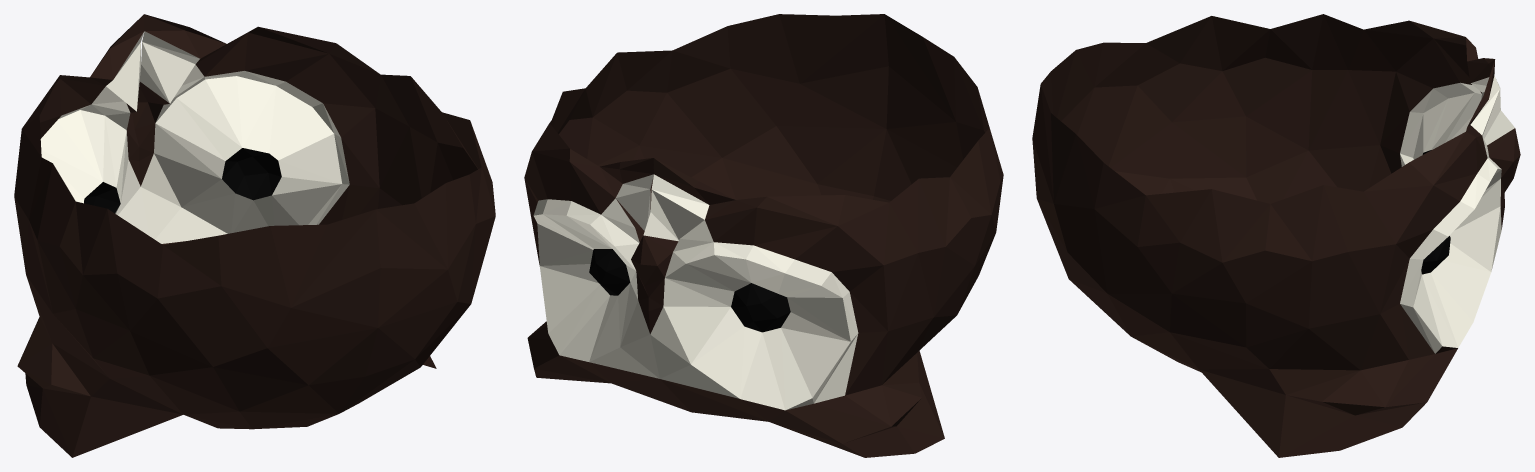
File: OwlHead.obj
3 renders of one model, left to right at view 1: azimuth 30°, elevation 25°; view 2: azimuth 150°, elevation 25°; view 3: azimuth 270°, elevation 25°, orthographic. The views are drawn at different scales.
Visible parts, largest first — view 1: LowPolyOwlHead; view 2: LowPolyOwlHead; view 3: LowPolyOwlHead.
Boxes of the visible parts, left/top/right/bottom form: LowPolyOwlHead: left=14, top=14, right=495, bottom=457; LowPolyOwlHead: left=524, top=14, right=1003, bottom=457; LowPolyOwlHead: left=1032, top=14, right=1520, bottom=457.
Bounding box in the file's own units: 36.26 × 27.35 × 38.79.
